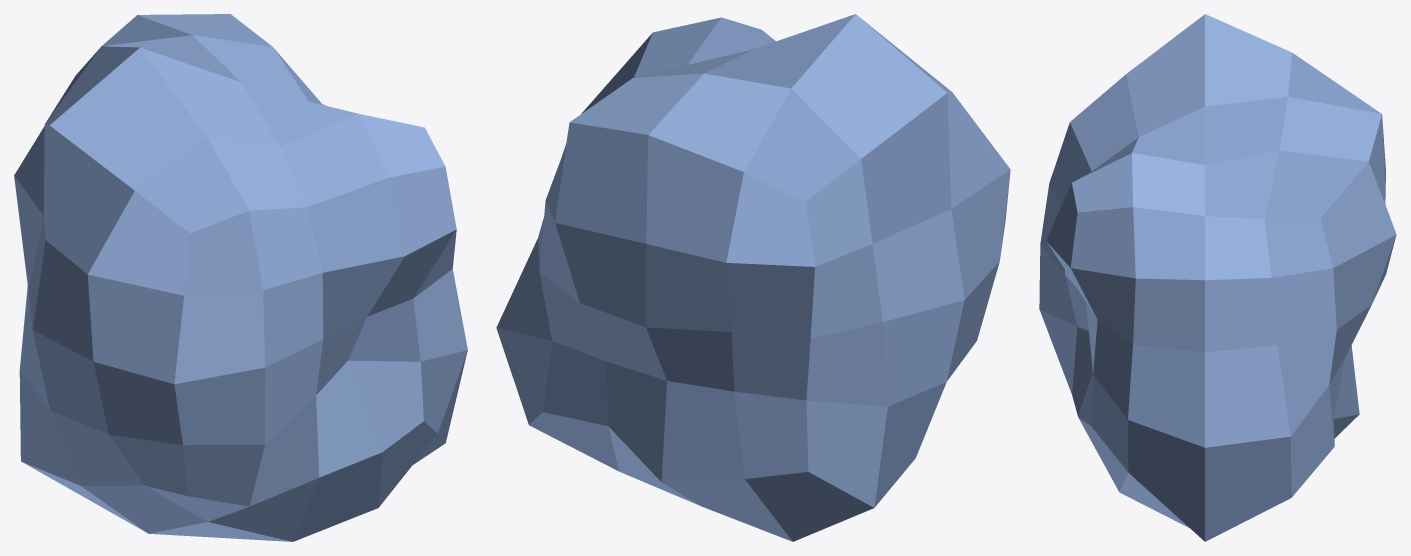
Rendered from Meteorite01001RS.fbx.
The picture shows the model from 3 angles, left to right: view 1: azimuth 30°, elevation 25°; view 2: azimuth 150°, elevation 25°; view 3: azimuth 270°, elevation 25°; orthographic projection. The views are drawn at different scales.
Parts seen in each view (by area): view 1: Meteorite01; view 2: Meteorite01; view 3: Meteorite01.
Part boxes in pixels (x1,y1,x2,y2): Meteorite01: (14, 14, 467, 541); Meteorite01: (496, 14, 1010, 541); Meteorite01: (1039, 14, 1396, 541).
Bounding box in the file's own units: 356 × 408 × 302.
